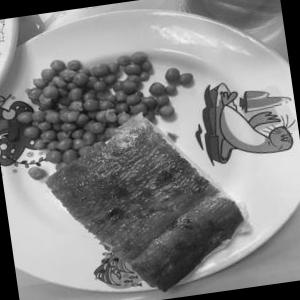casserole: (0, 22, 279, 300)
